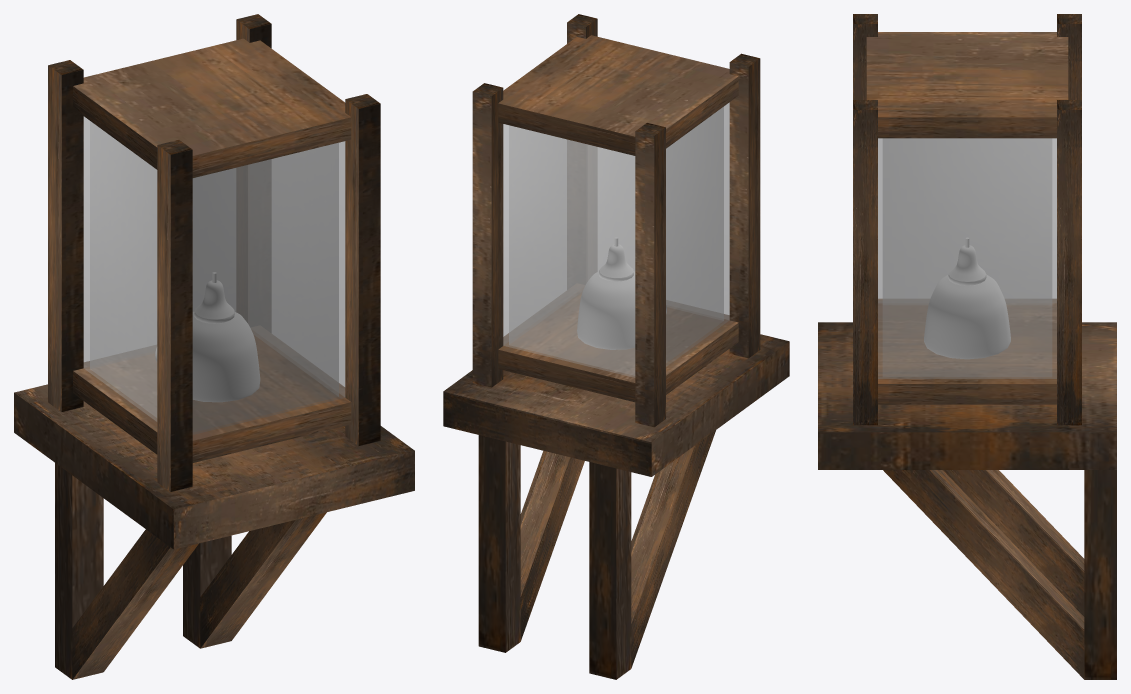
File: 등 받침대 3.FBX
3 views of the same model, side by side, from view 1: azimuth 30°, elevation 25°; view 2: azimuth 150°, elevation 25°; view 3: azimuth 270°, elevation 25° (orthographic). The views are drawn at different scales.
Parts seen in each view (by area): view 1: 등 받침대 3; view 2: 등 받침대 3; view 3: 등 받침대 3.
Boxes of the visible parts, <box> form: 등 받침대 3: <box>14,14,414,679</box>; 등 받침대 3: <box>443,14,789,679</box>; 등 받침대 3: <box>818,14,1116,679</box>.
Bounding box in the file's own units: 10.51 × 25.89 × 12.06.
